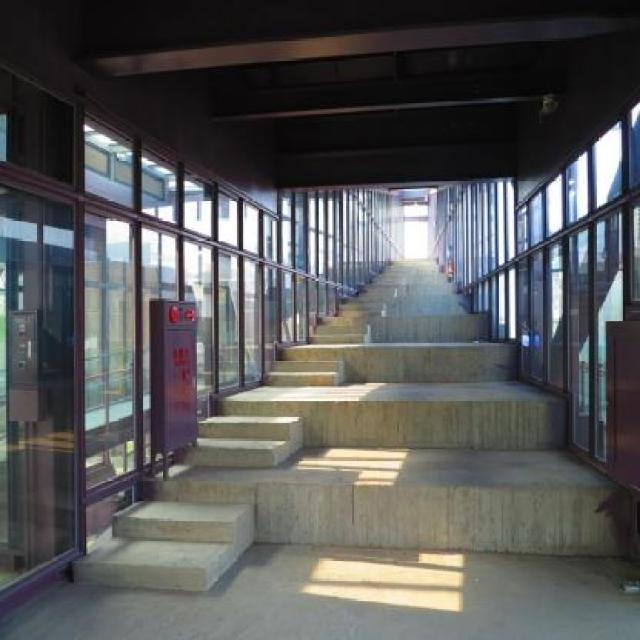stair: (71, 497, 257, 595), (169, 411, 302, 469), (260, 360, 343, 385), (307, 325, 370, 343), (340, 302, 385, 316), (361, 286, 397, 299)
